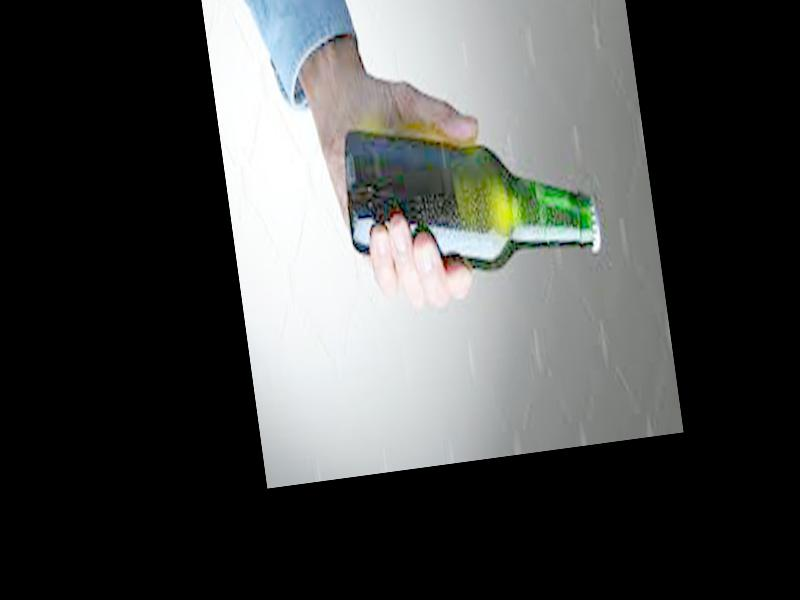Beer: (338, 97, 602, 296)
